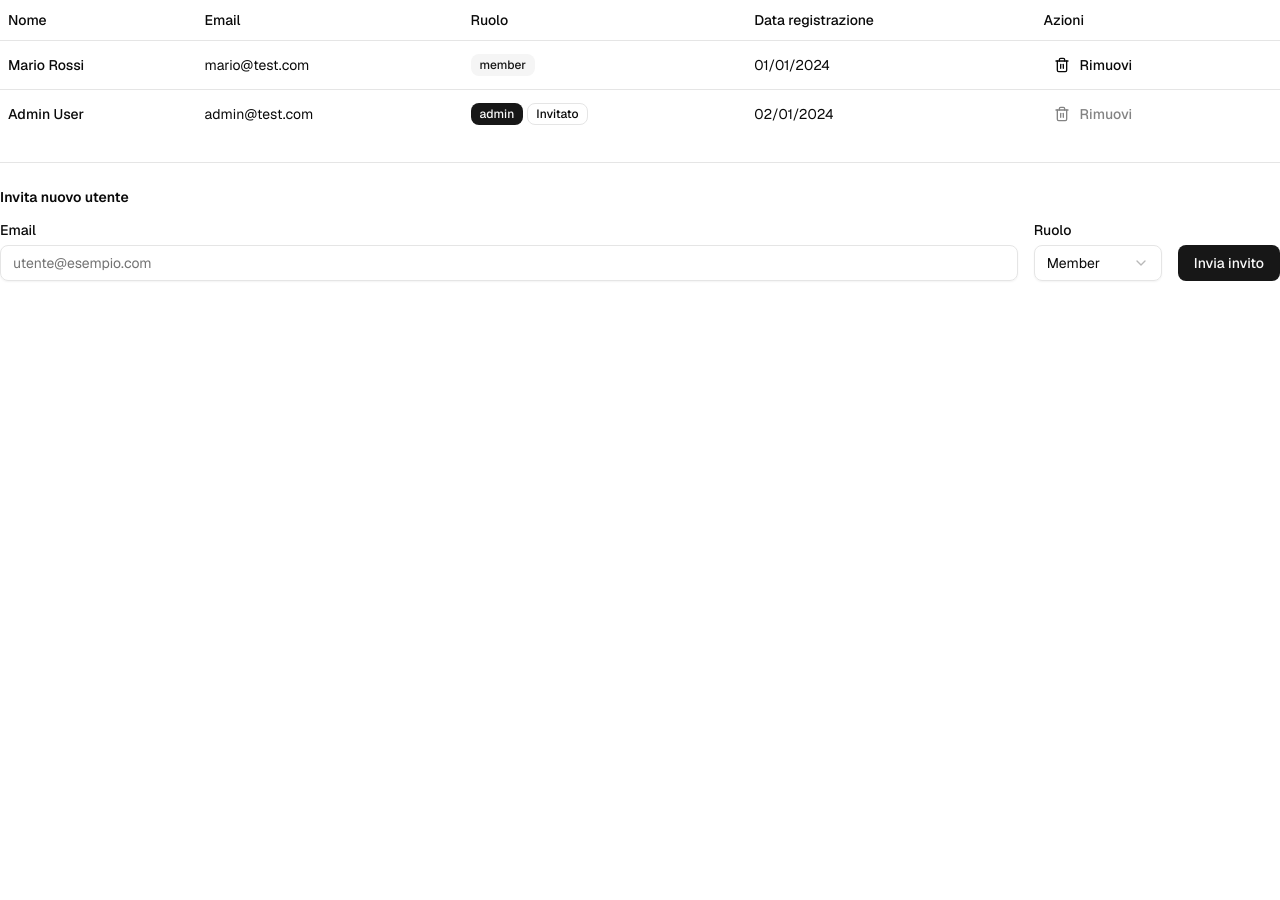
Test: UserManagement › opens confirm dialog on Remove click for non-self user
Click the button "Rimuovi" in the row of "Mario Rossi" at coordinates (1093, 64), box x1=1044 y1=48 x2=1142 y2=80
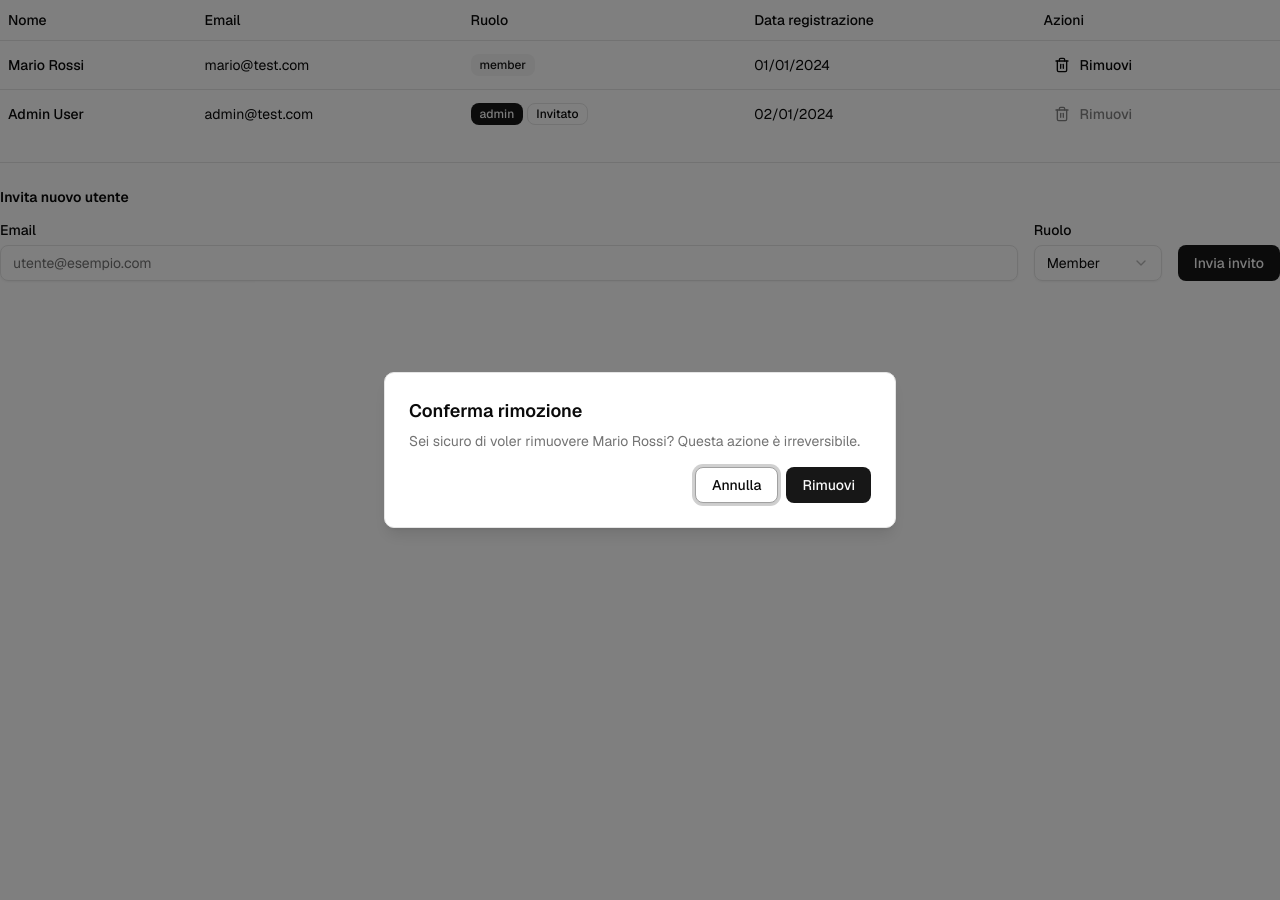
Expected: the text "Sei sicuro di voler rimuovere Mario Rossi" is shown, x1=409 y1=431 x2=860 y2=451
